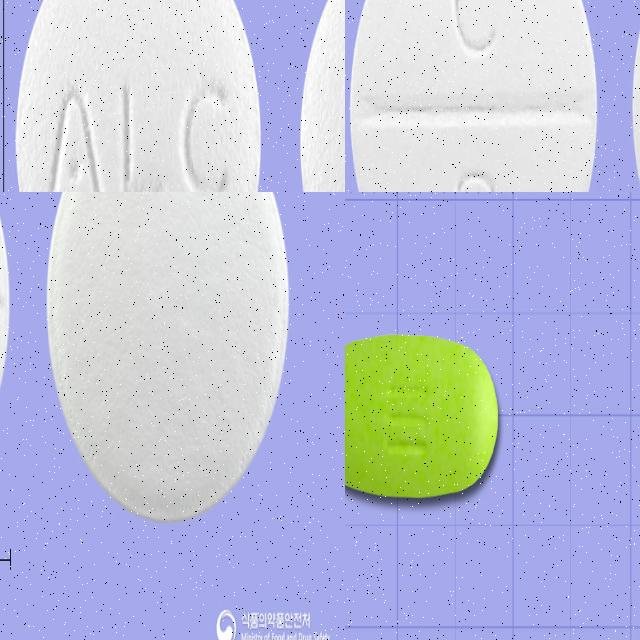CTcin: (44, 192, 293, 527)
Ciprofloxacin Hcl Tab- Arlico: (12, 0, 264, 192)
Citopcin: (345, 0, 603, 192)
Clararoxin: (345, 327, 503, 503)
